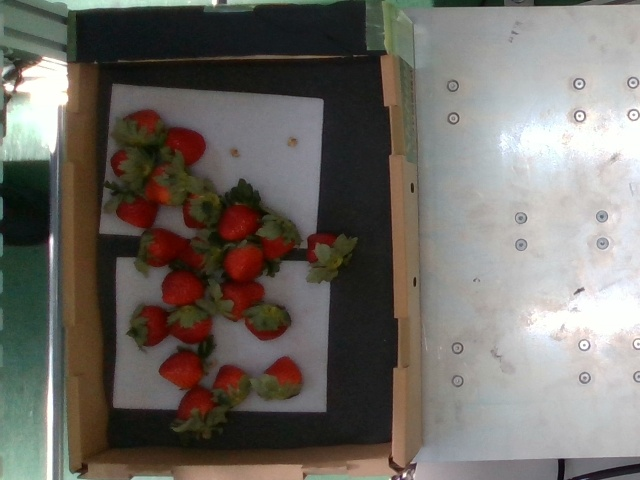strawberry: (219, 278, 266, 321), (157, 128, 207, 166), (146, 164, 189, 206), (143, 227, 188, 267), (169, 306, 214, 346), (178, 386, 217, 430), (244, 303, 289, 341), (161, 351, 205, 389), (263, 357, 303, 398), (261, 215, 295, 263), (117, 189, 158, 228), (223, 245, 266, 282), (120, 110, 161, 148), (136, 307, 174, 346), (183, 190, 221, 228), (112, 148, 151, 185), (162, 270, 203, 305), (178, 236, 217, 272), (221, 207, 262, 241), (213, 366, 247, 403), (308, 233, 340, 266)
